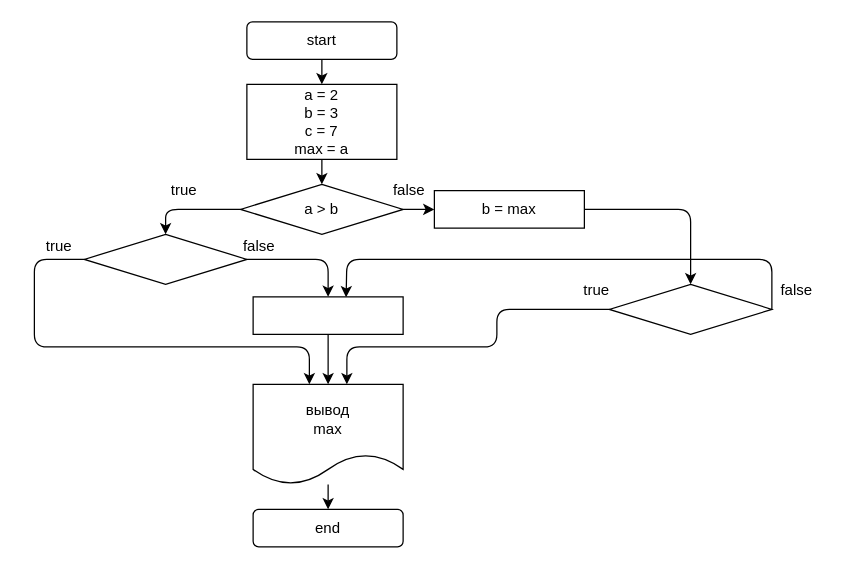
The diagram is 855 pixels wide and 569 high, and some of its shapes have lost their labels. Here are the shapes that lost their labels. From the top down, the box of each, then its label:
(83, 233, 247, 284): a > c
(252, 296, 403, 334): c = max
(608, 283, 772, 334): b > c
